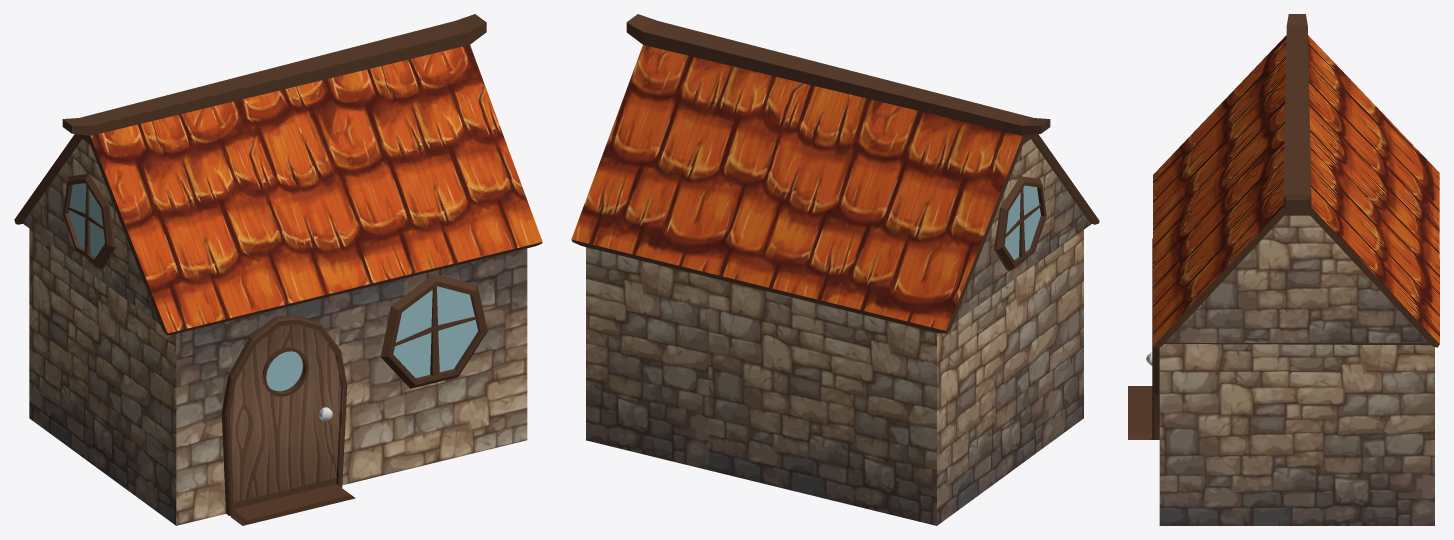
Rendered from medieval_house1.fbx.
The picture shows the model from 3 angles, left to right: view 1: azimuth 30°, elevation 25°; view 2: azimuth 150°, elevation 25°; view 3: azimuth 270°, elevation 25°; orthographic projection. The views are drawn at different scales.
Visible parts, largest first — view 1: Cube, Cube.001, Cylinder, Cylinder.001; view 2: Cube, Cylinder.001; view 3: Cube, Cube.001, Cylinder.
Boxes of the visible parts, x1,y1,x2,y2 form: Cube: (14,14,542,525); Cube.001: (221,315,355,525); Cylinder: (380,273,487,388); Cylinder.001: (63,173,115,267); Cube: (571,14,1099,525); Cylinder.001: (994,176,1046,270); Cube: (1153,14,1439,525); Cube.001: (1128,238,1159,439); Cylinder: (1154,347,1159,419).
Size of the model in its own units: 325 by 271 by 226.
3 materials, 3 textured.
